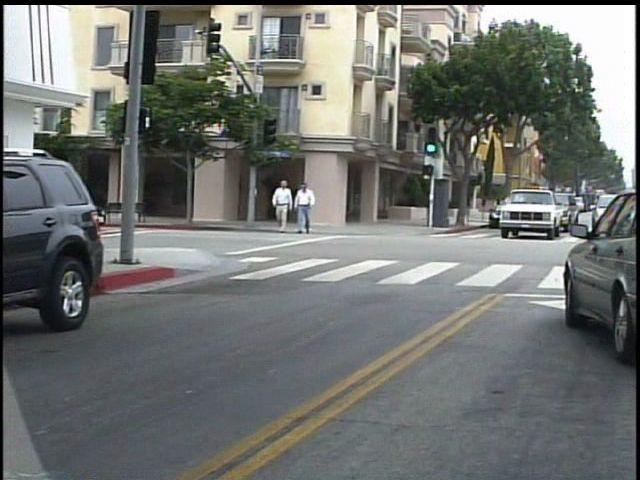person: (299, 178, 325, 239), (277, 177, 300, 240)
